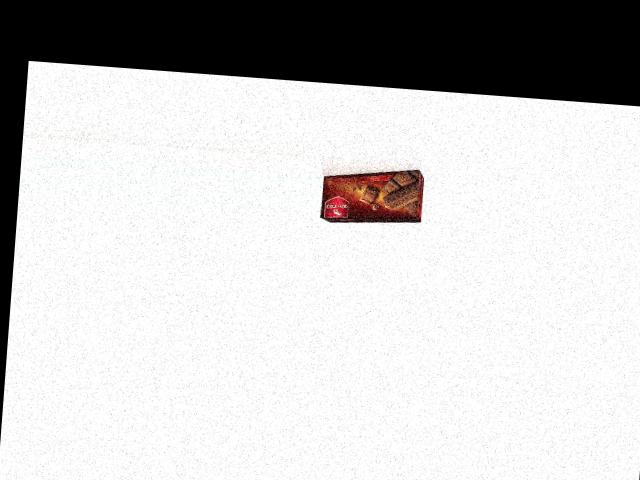chocolate: (319, 161, 423, 229)
